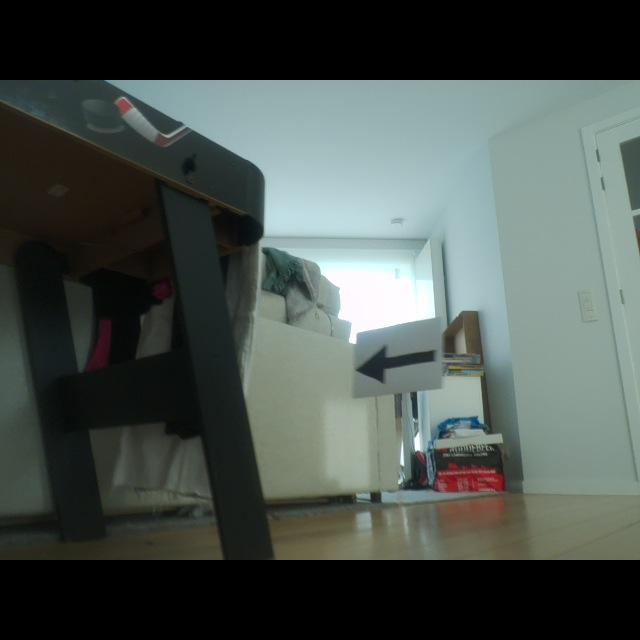balra_nyil: (356, 345, 435, 383)
